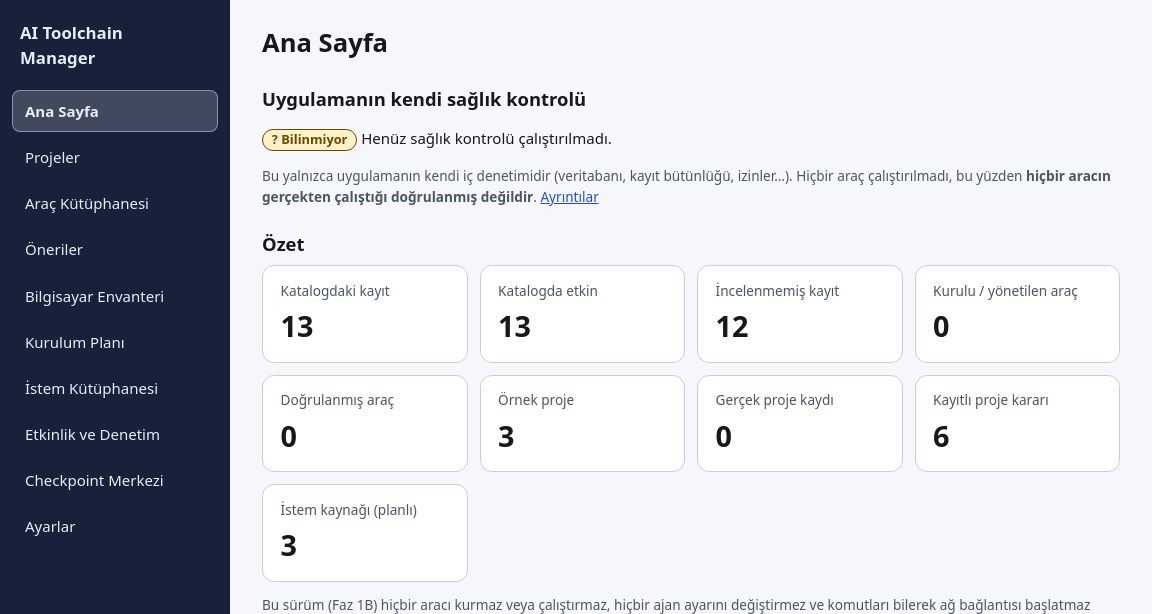
Scenario: rows: real projects only, one ATM row › synthetic projects are not rows; the fixed ATM row stands alone when no project claims the ATM repository
The image size is (1152, 614).
Click the button "Checkpoint Merkezi". click: click(115, 480)
box: [12,459,218,501]
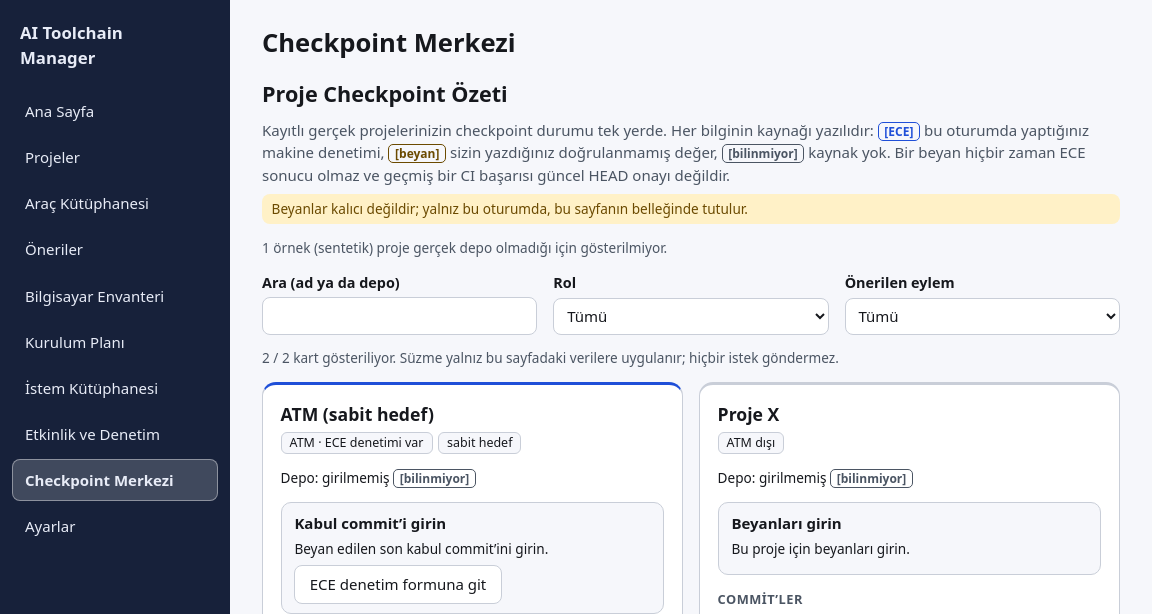
Result: the heading "Checkpoint Merkezi" is shown at [262,25,516,60]
Result: the heading "Proje Checkpoint Özeti" is shown at [262,79,508,108]
